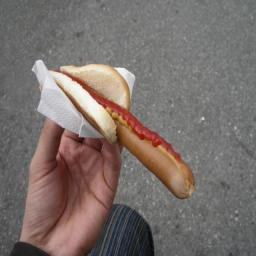hotdog: (35, 59, 193, 197)
